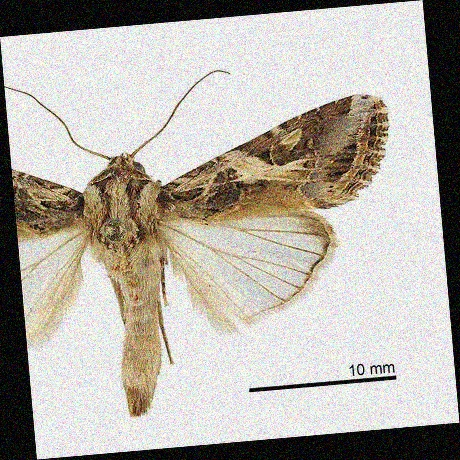Spodoptera litura: (19, 68, 400, 410)
